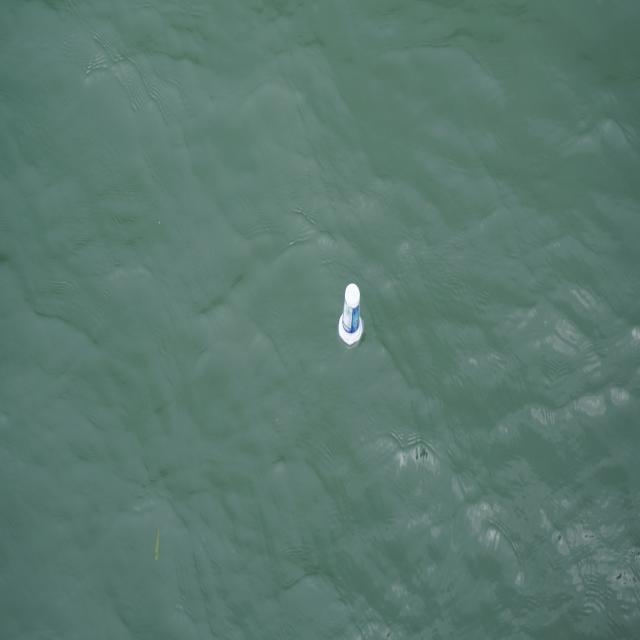Bungkus Minuman: (333, 275, 369, 352)
